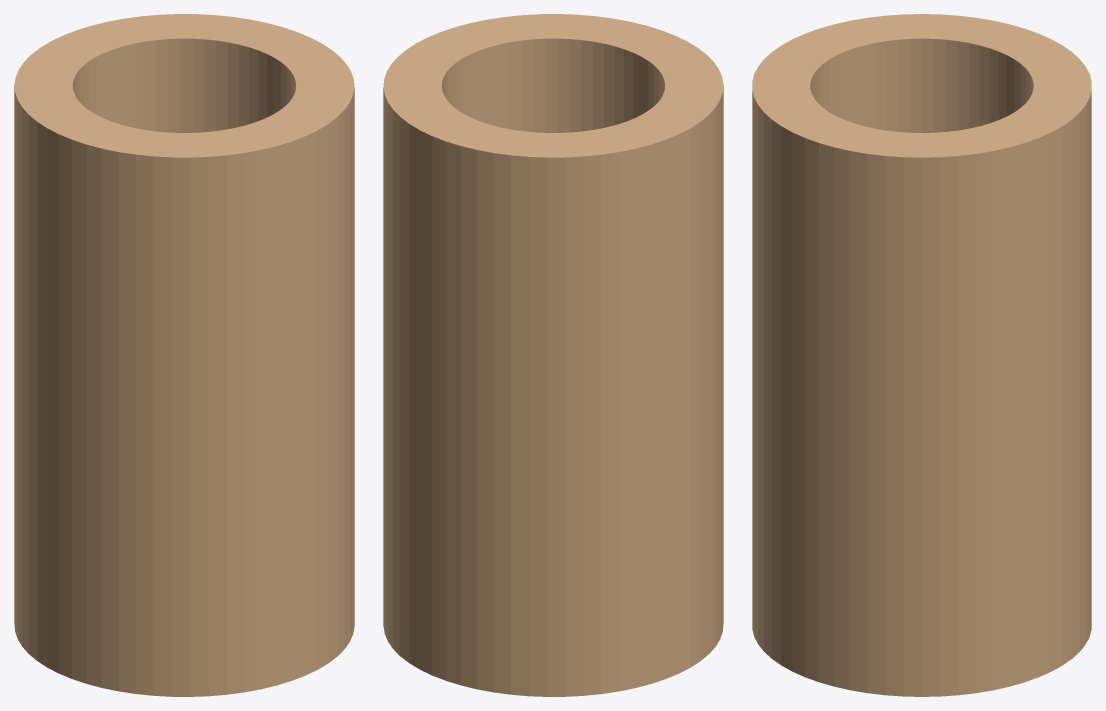
File: starter-solenoid-pull-winding.glb
3 views of the same model, side by side, from view 1: azimuth 30°, elevation 25°; view 2: azimuth 150°, elevation 25°; view 3: azimuth 270°, elevation 25° (orthographic).
Parts seen in each view (by area): view 1: world; view 2: world; view 3: world.
Part boxes in pixels (left/top/right/bottom): world: left=14, top=14, right=354, bottom=696; world: left=383, top=14, right=723, bottom=696; world: left=752, top=14, right=1091, bottom=696.
Bounding box in the file's own units: 0.028 × 0.049 × 0.028.
